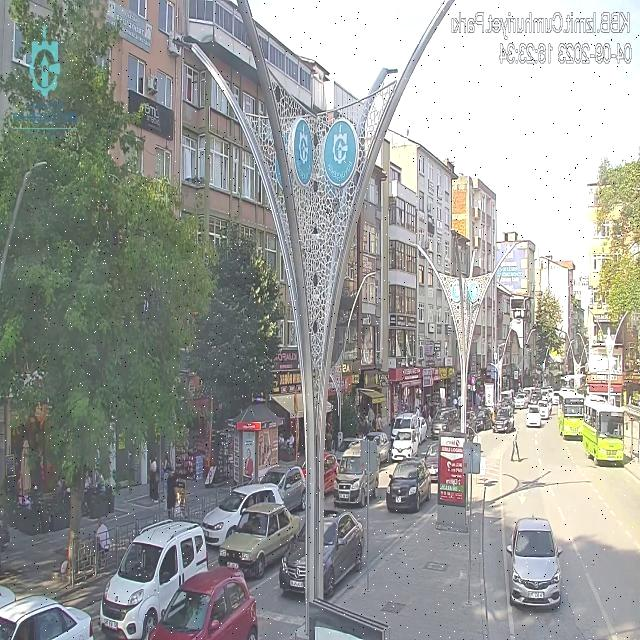Bus: (583, 396, 624, 463), (557, 386, 589, 441)
Car: (101, 518, 210, 638), (507, 507, 578, 622), (282, 512, 356, 600), (202, 479, 296, 545), (331, 446, 379, 507), (385, 458, 432, 513), (258, 464, 306, 511), (390, 411, 426, 458), (363, 432, 391, 466), (430, 409, 456, 438), (423, 441, 440, 481), (493, 408, 515, 433), (525, 404, 543, 427), (538, 400, 552, 419)
